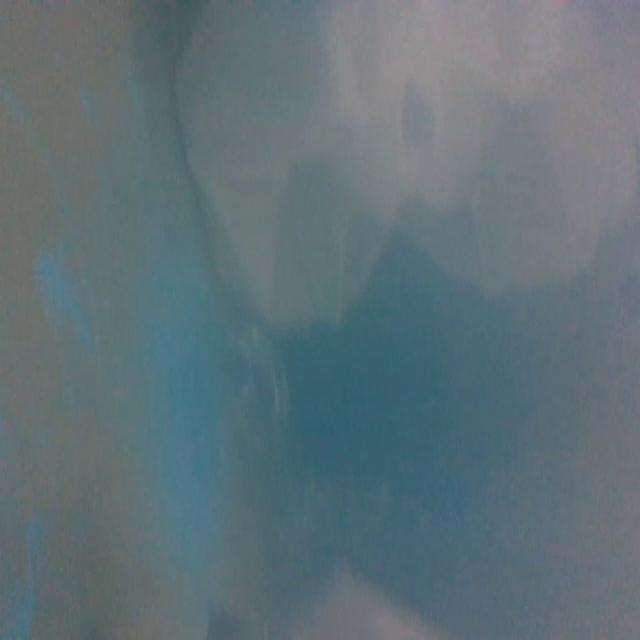plastic bags: (176, 2, 640, 332)
